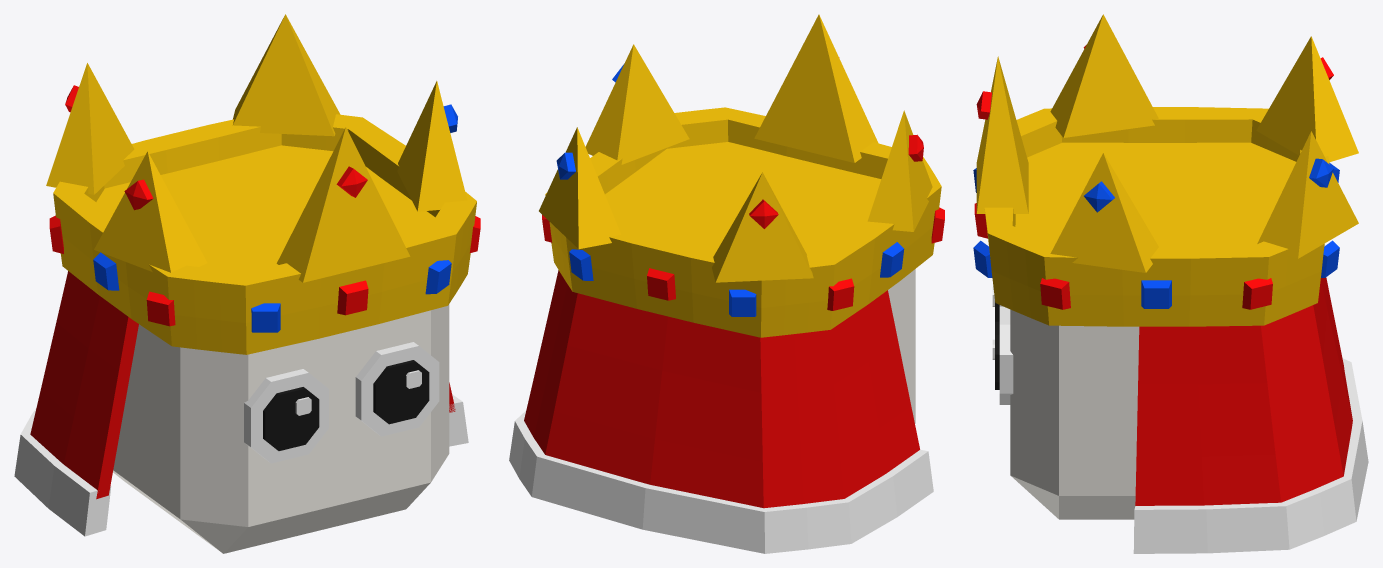
The model's file is Kingy.fbx.
The picture shows the model from 3 angles, left to right: view 1: azimuth 30°, elevation 25°; view 2: azimuth 150°, elevation 25°; view 3: azimuth 270°, elevation 25°; orthographic projection. The views are drawn at different scales.
Visible parts, largest first — view 1: Kingy_Crown, Kingy, Kingy_Cape, Kingy_Eyes, Kingy_Trim, Kingy_Pupils, Kingy_GemsRed, Kingy_GemsBlue; view 2: Kingy_Crown, Kingy_Cape, Kingy_Trim, Kingy_GemsRed, Kingy_GemsBlue, Kingy; view 3: Kingy_Crown, Kingy_Cape, Kingy, Kingy_Trim, Kingy_GemsBlue, Kingy_GemsRed, Kingy_Eyes.
Boxes of the visible parts, <box> form: Kingy_Crown: <box>46,14,476,354</box>; Kingy: <box>113,304,449,553</box>; Kingy_Cape: <box>30,271,455,499</box>; Kingy_Eyes: <box>244,342,439,463</box>; Kingy_Trim: <box>14,394,468,536</box>; Kingy_Pupils: <box>263,360,429,450</box>; Kingy_GemsRed: <box>49,85,480,326</box>; Kingy_GemsBlue: <box>93,104,457,332</box>; Kingy_Crown: <box>539,14,941,337</box>; Kingy_Cape: <box>524,270,919,508</box>; Kingy_Trim: <box>509,410,933,553</box>; Kingy_GemsRed: <box>542,57,944,310</box>; Kingy_GemsBlue: <box>556,63,904,316</box>; Kingy: <box>888,269,915,423</box>; Kingy_Crown: <box>976,14,1358,326</box>; Kingy_Cape: <box>1135,277,1352,505</box>; Kingy: <box>1010,309,1139,519</box>; Kingy_Trim: <box>1133,358,1368,553</box>; Kingy_GemsBlue: <box>973,158,1339,308</box>; Kingy_GemsRed: <box>974,45,1333,309</box>; Kingy_Eyes: <box>992,287,1013,404</box>.
Bounding box in the file's own units: 2.86 × 3.04 × 2.59.
